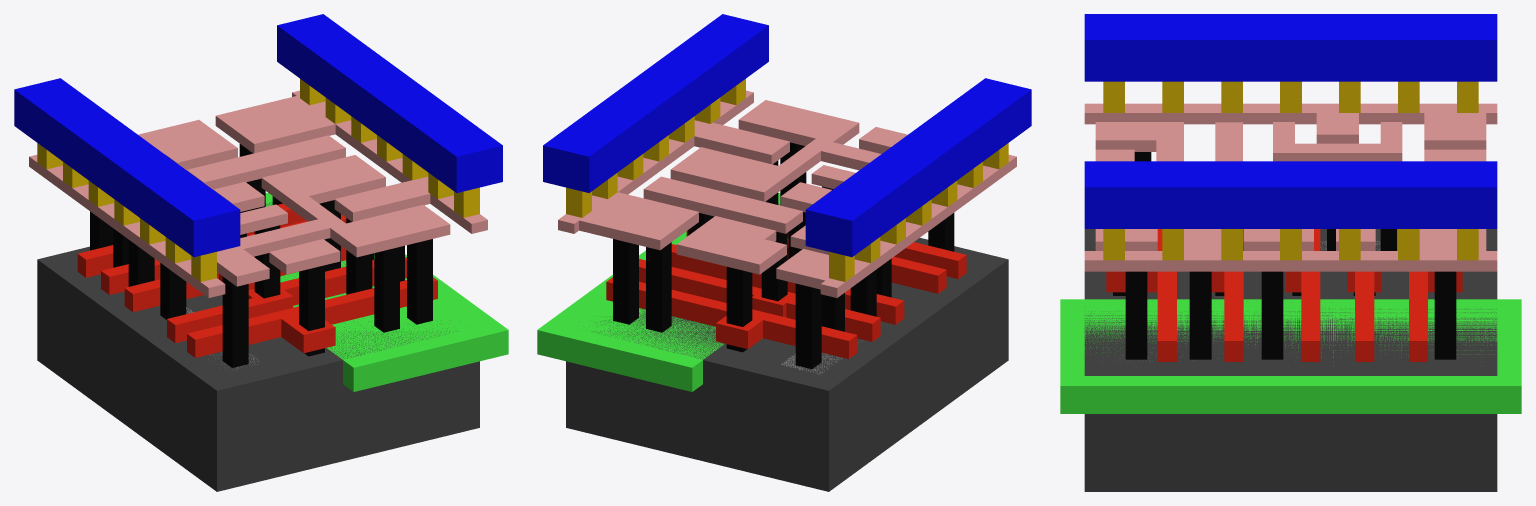
Rendered from sky130_fd_sc_hd__o311ai_0.obj.
The picture shows the model from 3 angles, left to right: view 1: azimuth 30°, elevation 25°; view 2: azimuth 150°, elevation 25°; view 3: azimuth 270°, elevation 25°; orthographic projection. The views are drawn at different scales.
Parts seen in each view (by area): view 1: subs, li, metal1, licon, poly, nwell, mcon; view 2: subs, li, metal1, licon, poly, nwell, mcon; view 3: metal1, subs, nwell, li, poly, mcon, licon.
Part boxes in pixels (x1,y1,x2,y2): subs: (37, 202, 479, 491); li: (29, 90, 487, 297); metal1: (14, 14, 502, 257); licon: (90, 144, 432, 367); poly: (77, 203, 437, 357); nwell: (265, 193, 508, 391); mcon: (37, 79, 479, 281); subs: (566, 203, 1008, 491); li: (558, 90, 1016, 297); metal1: (543, 14, 1031, 257); licon: (613, 142, 954, 369); poly: (606, 230, 966, 358); nwell: (537, 193, 780, 391); mcon: (566, 79, 1008, 281); metal1: (1084, 14, 1497, 228); subs: (1084, 229, 1497, 491); nwell: (1060, 299, 1521, 413); li: (1084, 103, 1497, 271); poly: (1106, 229, 1462, 361); mcon: (1103, 81, 1478, 260); licon: (1113, 152, 1456, 359).
Size of the model in its own units: 3.2 by 2.74 by 3.6.
